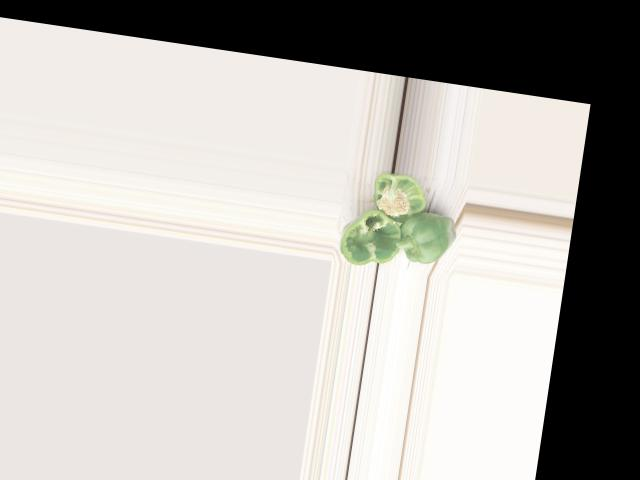bell_pepper: (358, 169, 433, 225)
